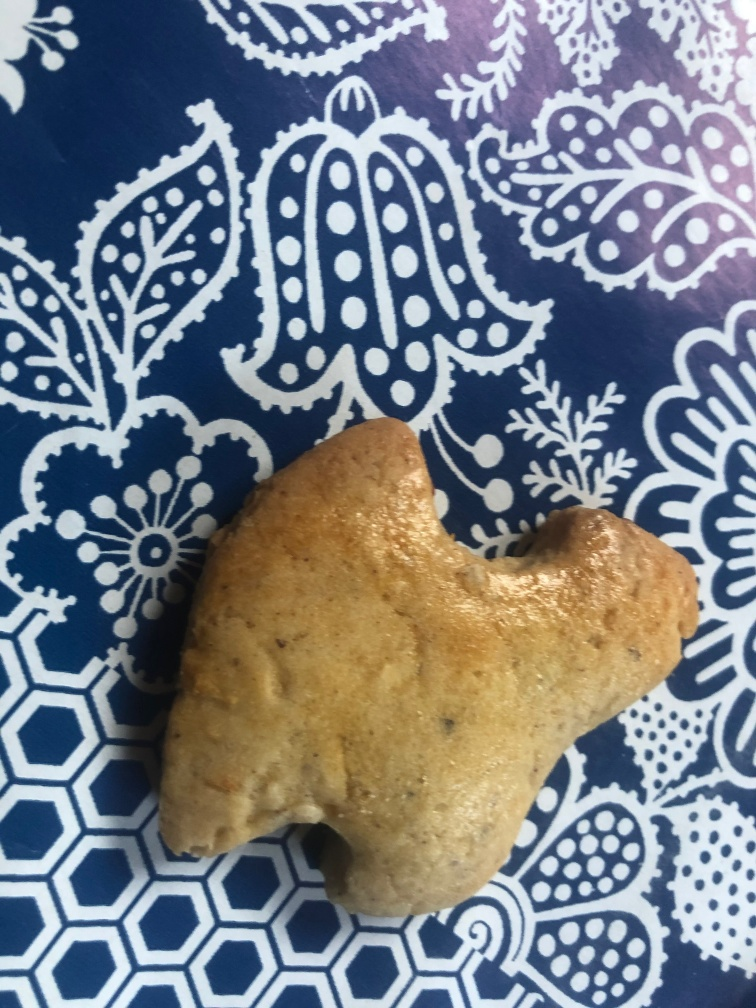lamb: (142, 405, 698, 928)
